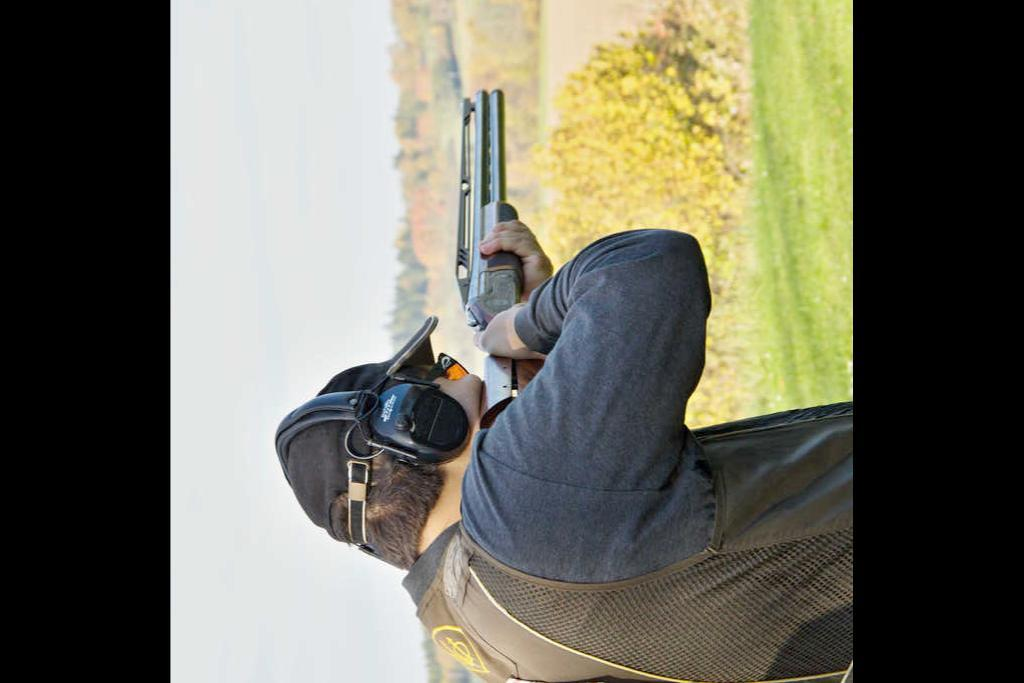gun: (448, 80, 558, 408)
